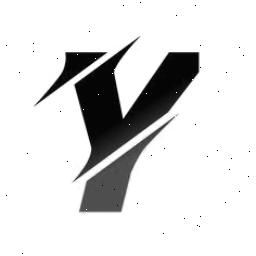y: (32, 39, 204, 223)
